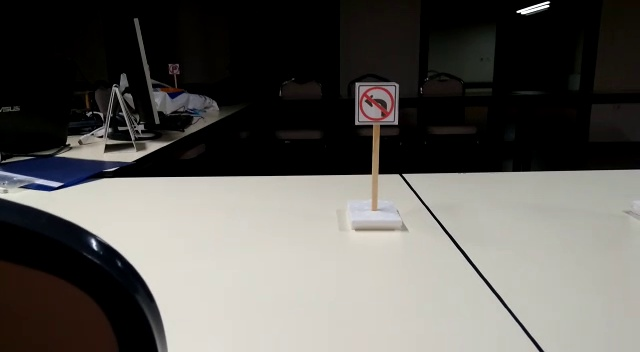sola_donulmez: (353, 77, 403, 127)
